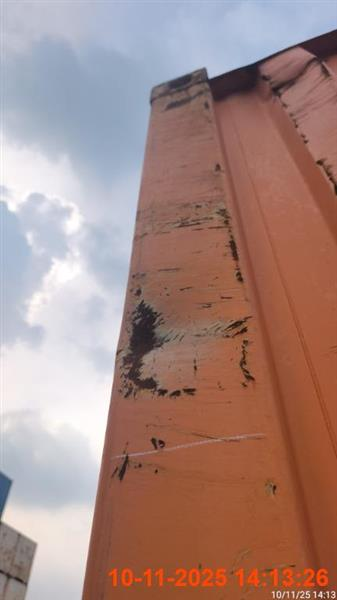bent: (34, 60, 304, 540)
